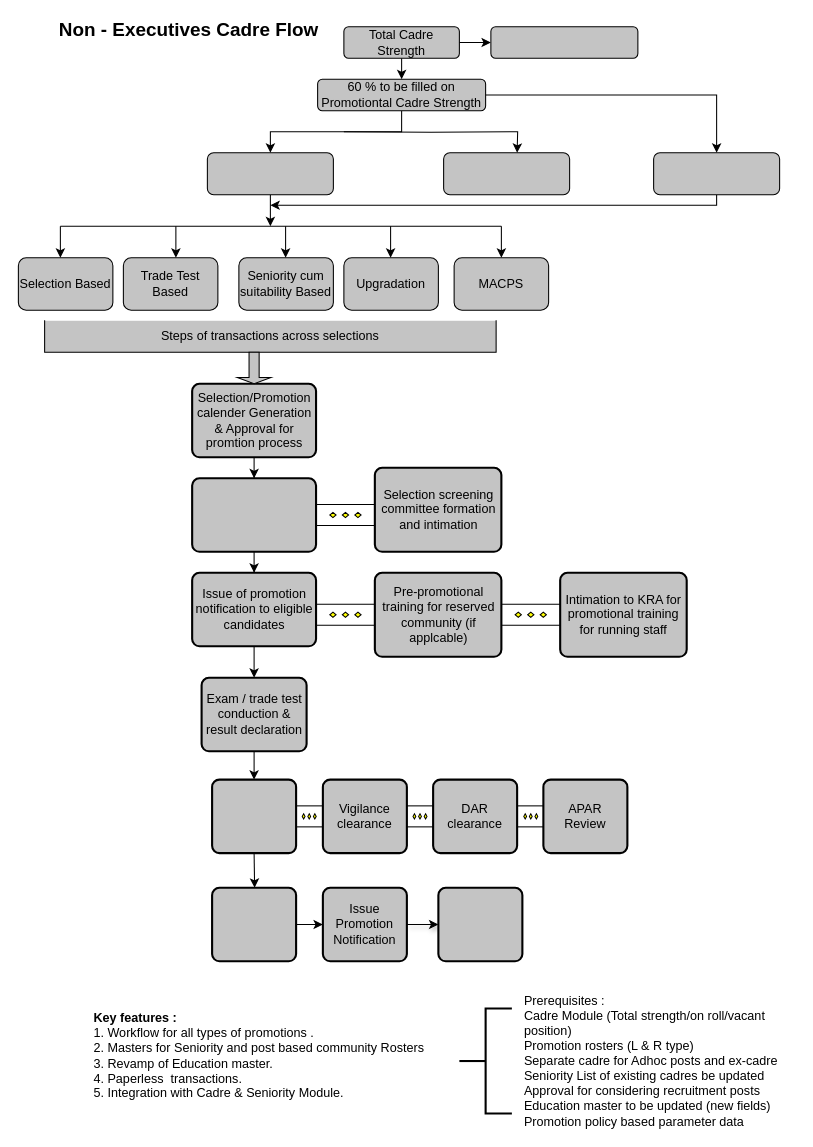
This 813x1147 diagram has some shape labels left out. The shapes that lost their labels are listed below. From the top down, each one's centre as x and y in pixels, then its label:
the point at 564,42: 40% to be filled on recruitment
the point at 269,173: 70% Departmental Quota
the point at 506,173: 30% LDCE
the point at 716,173: 100% Departmental Quota
the point at 254,514: Generate List of eligible employees
the point at 254,816: Screening committe assessment
the point at 254,924: Draft Panel Notification & approval
the point at 480,924: Transfer & Posting
